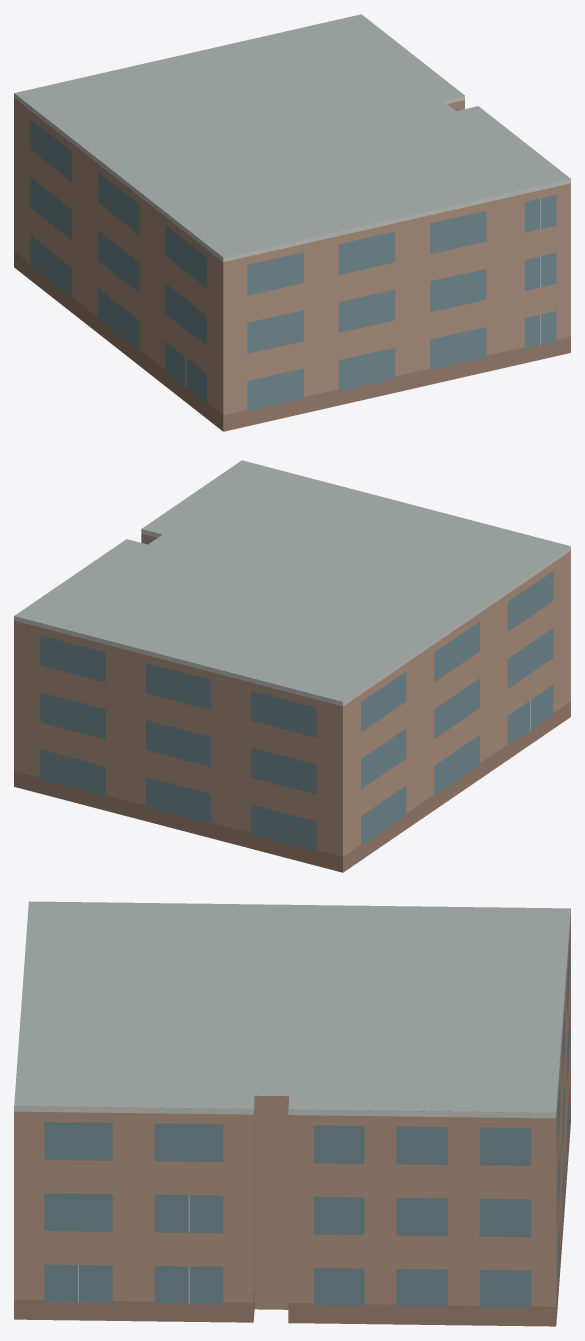
The model's file is survey-upis-32662665.glb.
3 renders of one model, top to bottom at view 1: azimuth 30°, elevation 25°; view 2: azimuth 150°, elevation 25°; view 3: azimuth 270°, elevation 25°, orthographic. The views are drawn at different scales.
Parts seen in each view (by area): view 1: survey-upis-32662665.tmp; view 2: survey-upis-32662665.tmp; view 3: survey-upis-32662665.tmp.
Part boxes in pixels (left/top/right/bottom): survey-upis-32662665.tmp: left=14, top=14, right=570, bottom=431; survey-upis-32662665.tmp: left=14, top=460, right=570, bottom=872; survey-upis-32662665.tmp: left=14, top=901, right=570, bottom=1326.
Bounding box in the file's own units: 19.42 × 9.15 × 21.62.
